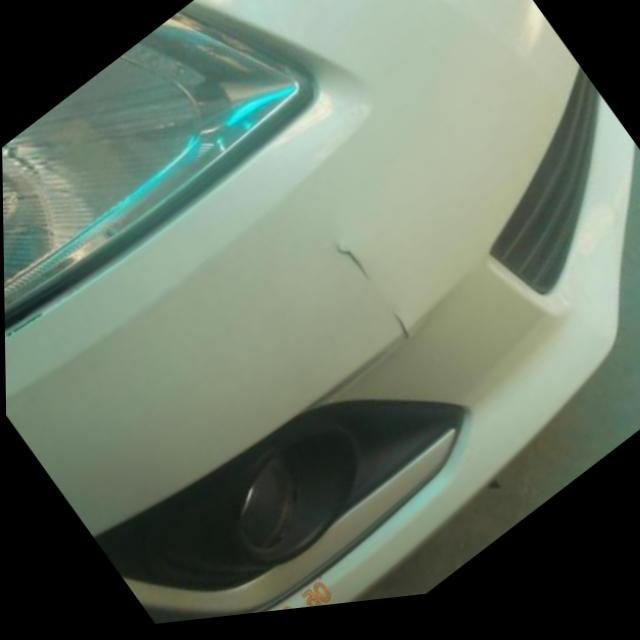crack: (374, 309, 415, 362), (329, 244, 370, 292)
